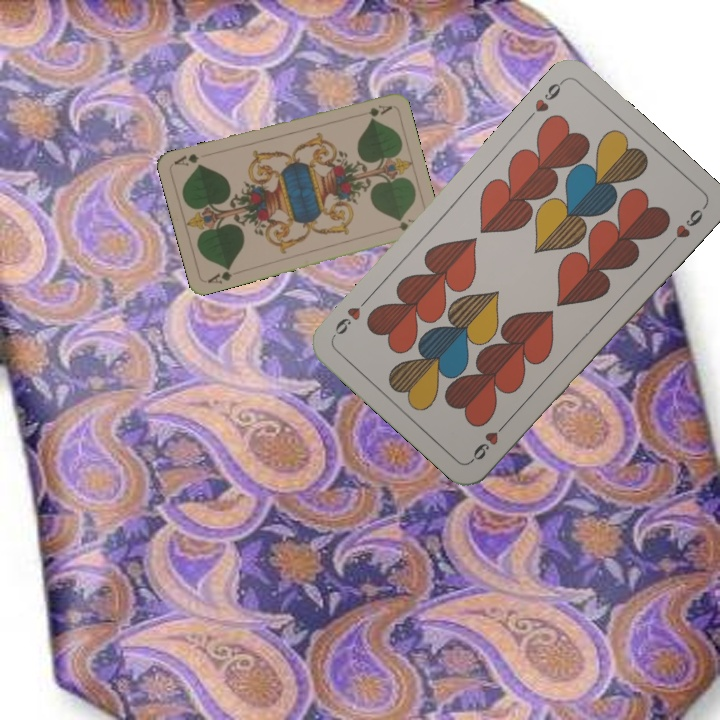GA: (203, 263, 235, 286), (364, 101, 394, 119)
H9: (522, 76, 567, 124), (467, 416, 511, 464)
